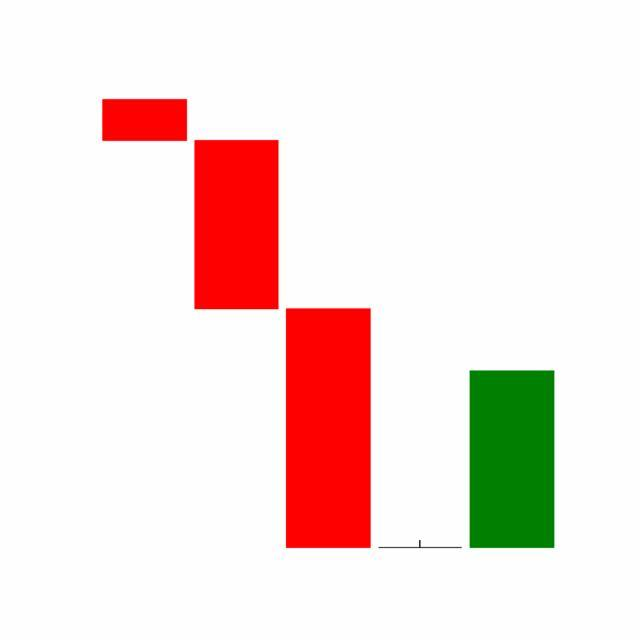Marubozu: (466, 369, 559, 551)
